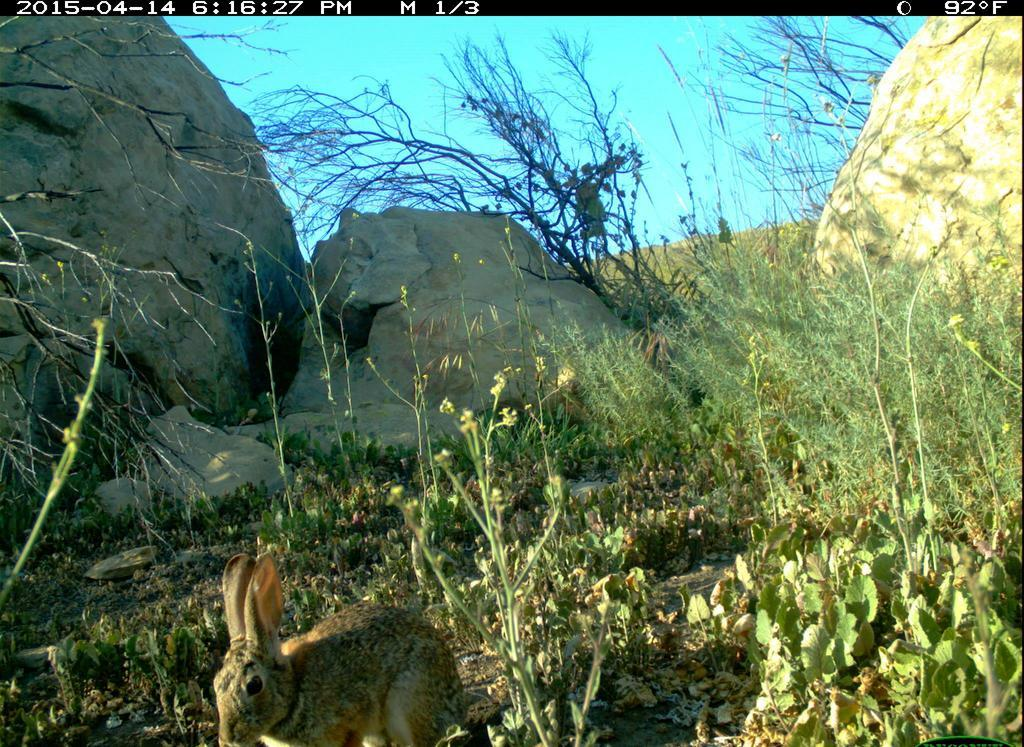rabbit: (201, 548, 481, 747)
